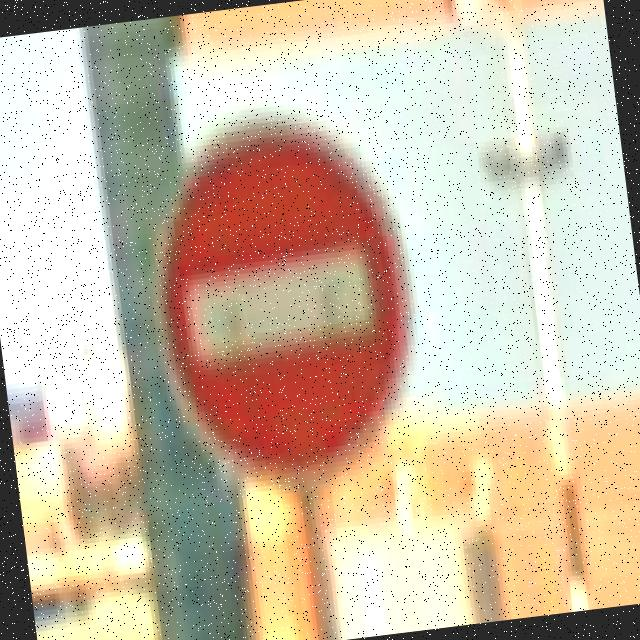Zakaz wjazdu: (131, 102, 426, 502)
